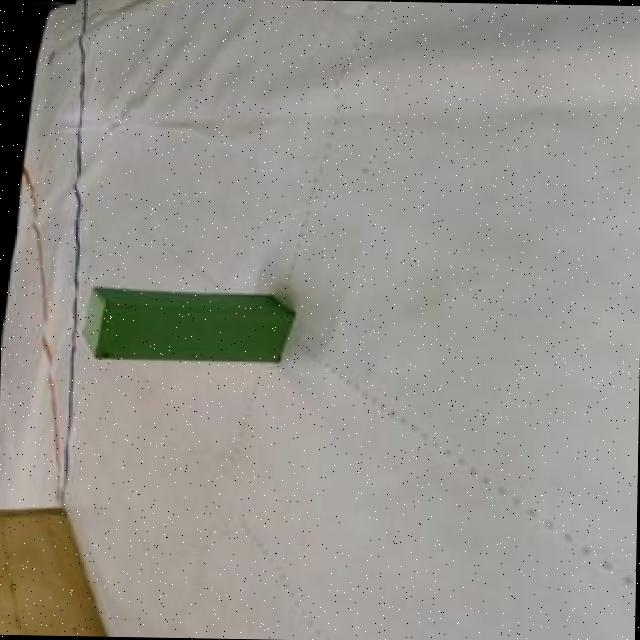greenbox: (77, 285, 296, 364)
